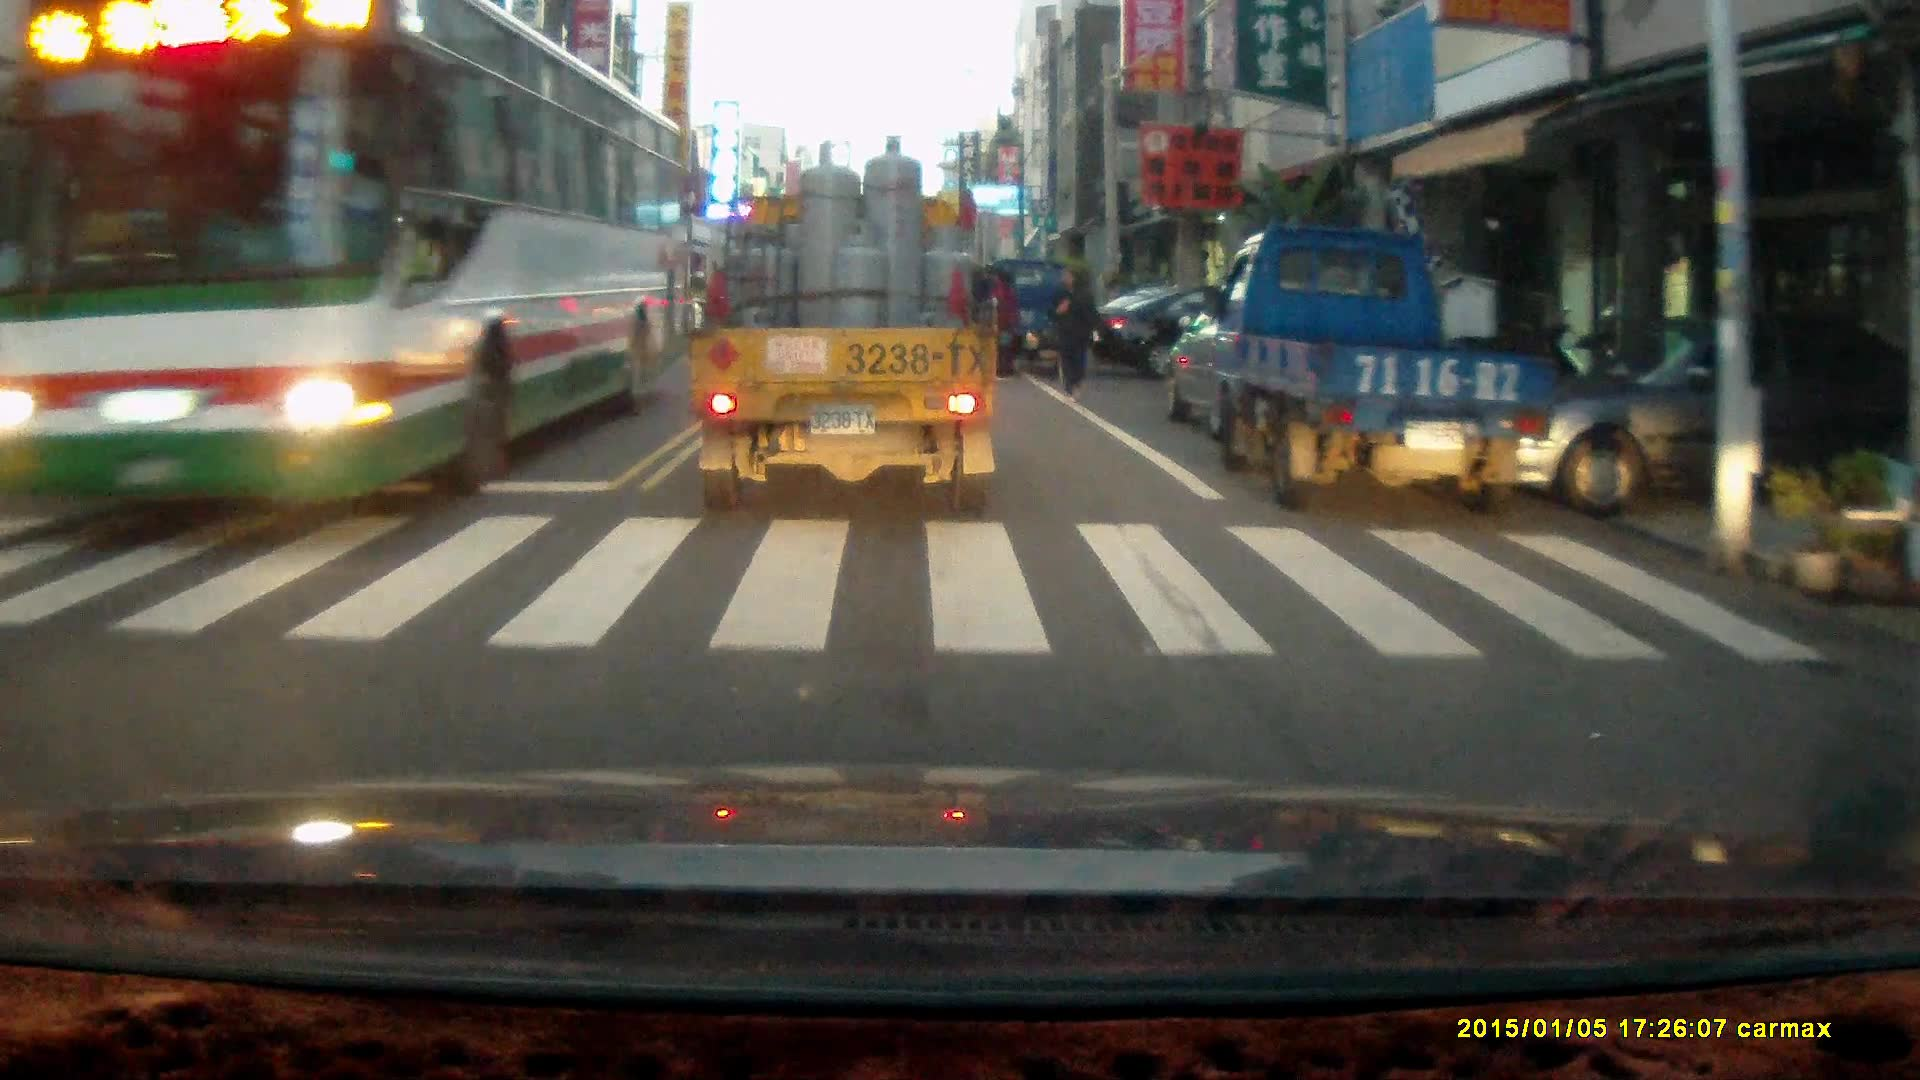pedestrian: (1046, 267, 1099, 403), (984, 263, 1018, 381)
vehicle: (15, 19, 664, 511), (685, 134, 1004, 520), (1193, 222, 1557, 514), (1495, 331, 1780, 511), (1086, 280, 1331, 381), (981, 260, 1096, 382)
